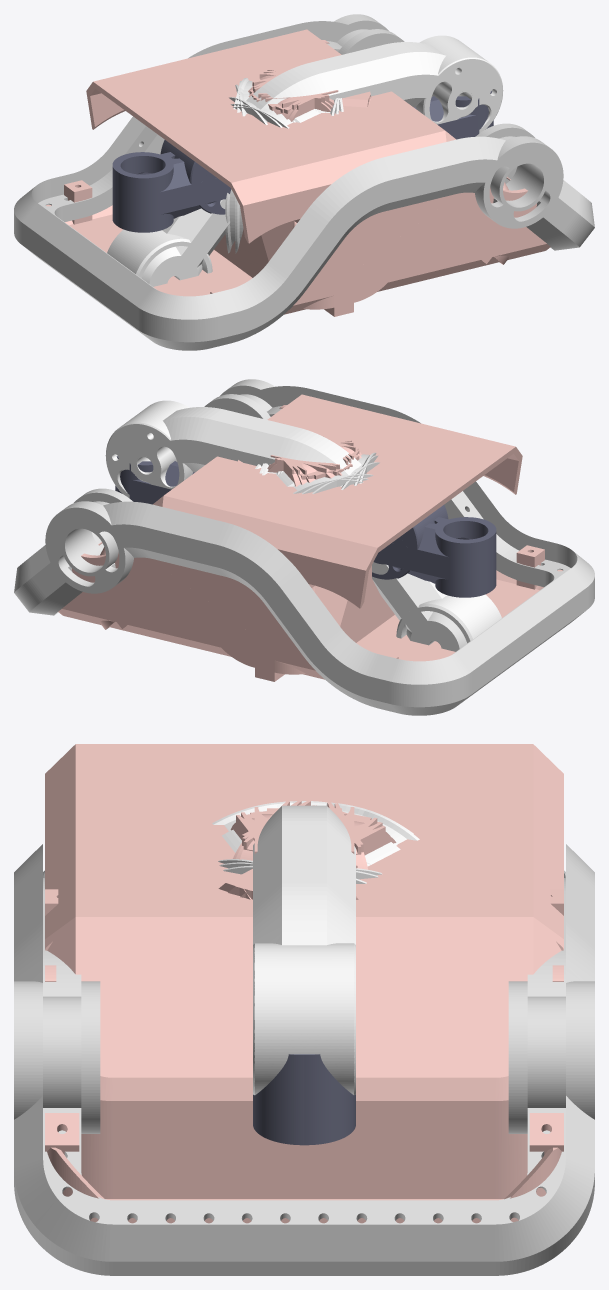
Rendered from RRoverglb-Optimized.glb.
The picture shows the model from 3 angles, top to bottom: view 1: azimuth 30°, elevation 25°; view 2: azimuth 150°, elevation 25°; view 3: azimuth 270°, elevation 25°; orthographic projection. The views are drawn at different scales.
Parts seen in each view (by area): view 1: 1x_frame, 1x_top_back, 1x_bottom, 1x_1xm_top_arm_front, 1x_1xm_top_arm_front001, 2x_arm_lower001, 1x_top_front, 2x_arm_lower, 6x_rim002, 1x_1xm_top_arm_back001, 1x_1xm_top_arm_back, 6x_rim005 (+2 smaller); view 2: 1x_frame, 1x_top_back, 1x_bottom, 1x_1xm_top_arm_front001, 1x_1xm_top_arm_front, 2x_arm_lower, 1x_top_front, 2x_arm_lower001, 1x_1xm_top_arm_back, 1x_1xm_top_arm_back001, 6x_rim002; view 3: 1x_top_back, 1x_frame, 1x_1xm_top_arm_front, 1x_1xm_top_arm_front001, 1x_bottom, 2x_arm_lower, 2x_arm_lower001, 6x_rim002, 6x_rim005, 6x_motor_arm1002.
Part boxes in pixels (box(x1,y1,x2,y2)): 1x_frame: box(14, 14, 594, 350); 1x_top_back: box(86, 29, 508, 264); 1x_bottom: box(46, 40, 550, 314); 1x_1xm_top_arm_front: box(107, 35, 502, 286); 1x_1xm_top_arm_front001: box(114, 35, 503, 285); 2x_arm_lower001: box(114, 91, 493, 232); 1x_top_front: box(214, 193, 459, 316); 2x_arm_lower: box(112, 96, 469, 225); 6x_rim002: box(225, 78, 337, 253); 1x_1xm_top_arm_back001: box(171, 146, 225, 214); 1x_1xm_top_arm_back: box(160, 140, 230, 199); 6x_rim005: box(232, 106, 318, 128); 1x_frame: box(14, 379, 594, 715); 1x_top_back: box(100, 394, 522, 629); 1x_bottom: box(58, 405, 562, 679); 1x_1xm_top_arm_front001: box(106, 400, 501, 651); 1x_1xm_top_arm_front: box(105, 400, 494, 650); 2x_arm_lower: box(115, 456, 495, 597); 1x_top_front: box(149, 558, 394, 681); 2x_arm_lower001: box(139, 461, 496, 590); 1x_1xm_top_arm_back: box(372, 511, 437, 579); 1x_1xm_top_arm_back001: box(373, 505, 448, 564); 6x_rim002: box(275, 471, 363, 493); 1x_top_back: box(45, 744, 563, 1198); 1x_frame: box(14, 844, 594, 1275); 1x_1xm_top_arm_front: box(253, 805, 355, 1094); 1x_1xm_top_arm_front001: box(253, 805, 355, 1094); 1x_bottom: box(45, 889, 563, 1223); 2x_arm_lower: box(294, 1054, 355, 1145); 2x_arm_lower001: box(253, 1054, 310, 1145); 6x_rim002: box(218, 809, 419, 866); 6x_rim005: box(212, 802, 382, 875); 6x_motor_arm1002: box(218, 831, 396, 899).
Size of the model in its own units: 4026074 by 1779787 by 2739750.
